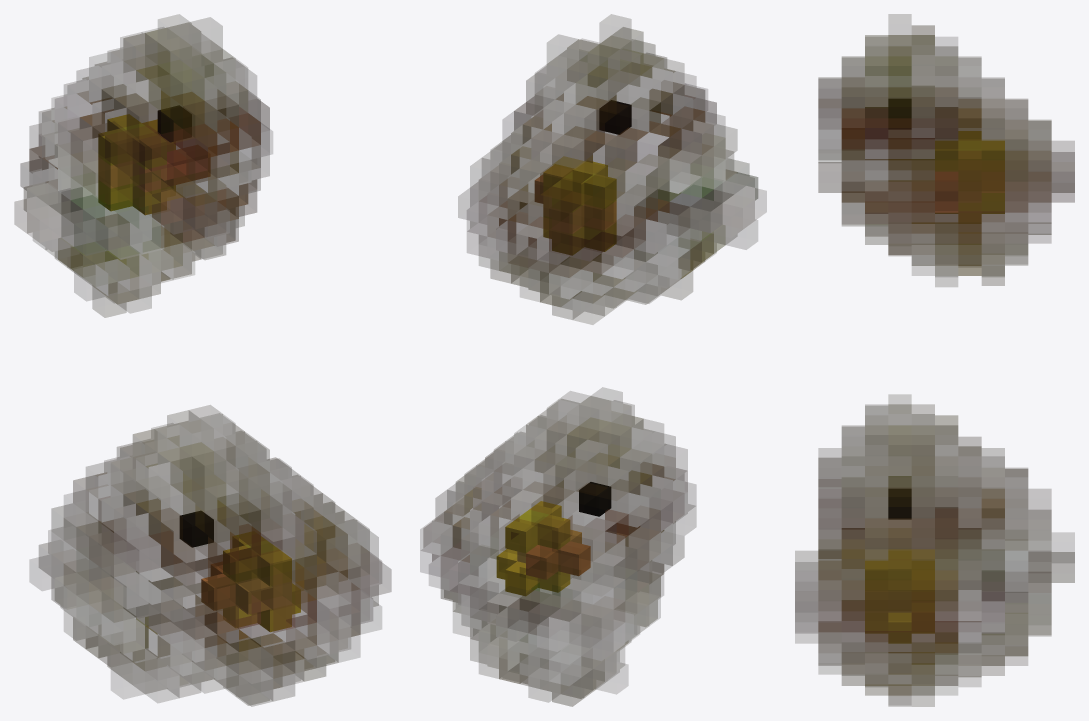
The model's file is iter_15.obj.
The picture shows the model from 3 angles, left to right: view 1: azimuth 30°, elevation 25°; view 2: azimuth 150°, elevation 25°; view 3: azimuth 270°, elevation 25°; orthographic projection. The views are drawn at different scales.
Parts seen in each view (by area): view 1: iter_15; view 2: iter_15; view 3: iter_15.
Boxes of the visible parts, bbox=[...] form: iter_15: bbox=[14, 14, 391, 706]; iter_15: bbox=[420, 14, 766, 706]; iter_15: bbox=[795, 14, 1074, 706].
Bounding box in the file's own units: 1.5 × 3 × 1.2.
